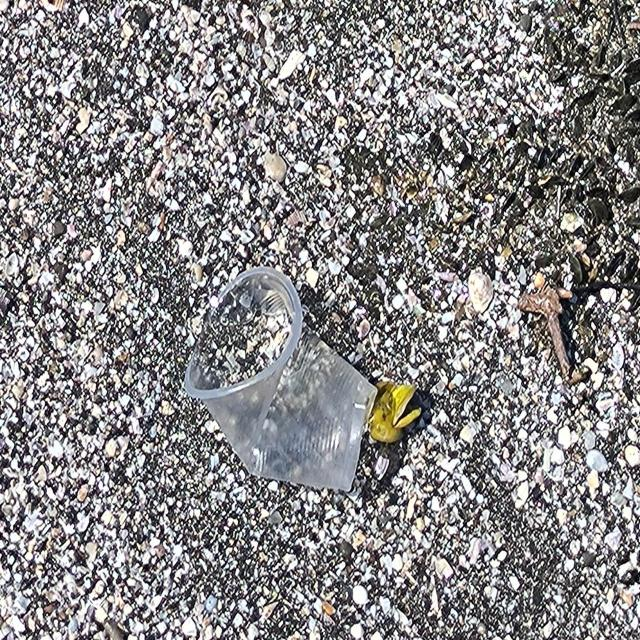plastic_waste: (183, 265, 381, 495)
